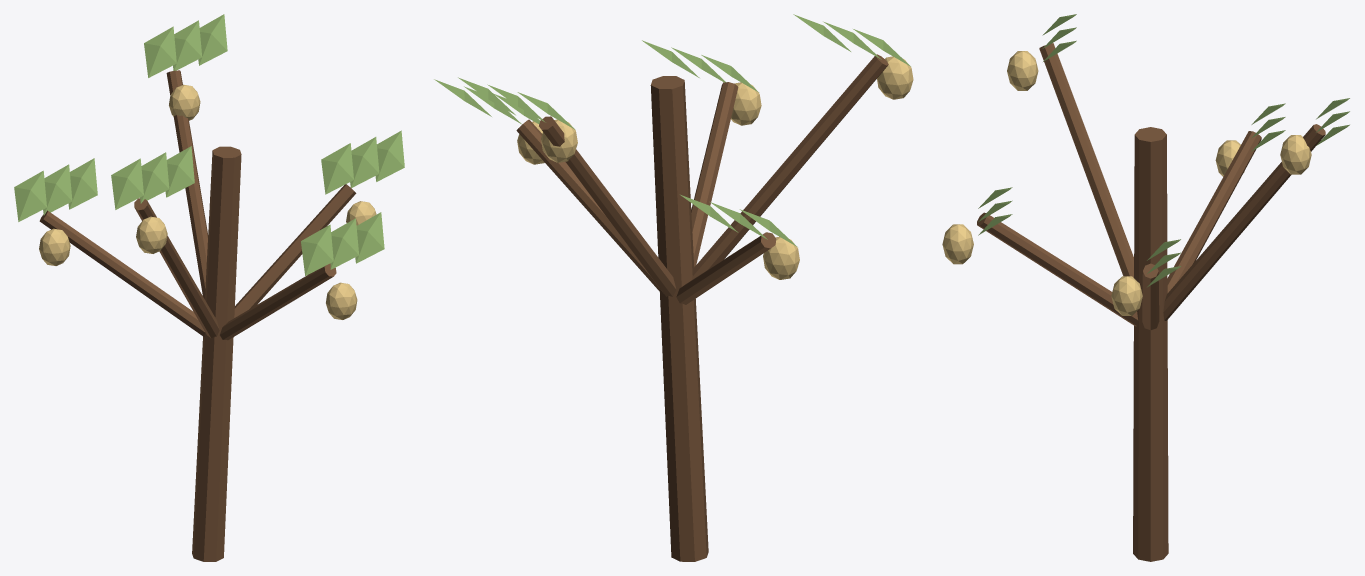
The picture shows the model from 3 angles, left to right: view 1: azimuth 30°, elevation 25°; view 2: azimuth 150°, elevation 25°; view 3: azimuth 270°, elevation 25°; orthographic projection. The views are drawn at different scales.
Parts seen in each view (by area): view 1: WW-048 Wild fruit seed-source sapling batched; view 2: WW-048 Wild fruit seed-source sapling batched; view 3: WW-048 Wild fruit seed-source sapling batched.
Part boxes in pixels (x1,y1,x2,y2): WW-048 Wild fruit seed-source sapling batched: (14, 14, 404, 561); WW-048 Wild fruit seed-source sapling batched: (434, 14, 913, 561); WW-048 Wild fruit seed-source sapling batched: (942, 14, 1349, 561).
Size of the model in its own units: 1.09 by 1.35 by 1.03.
